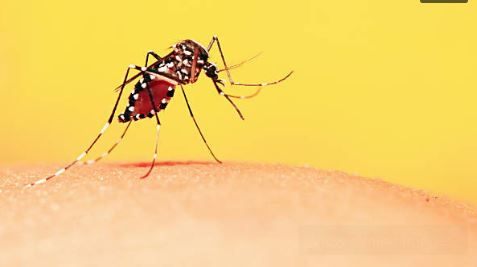dengue_mosquito: (26, 35, 294, 185)
